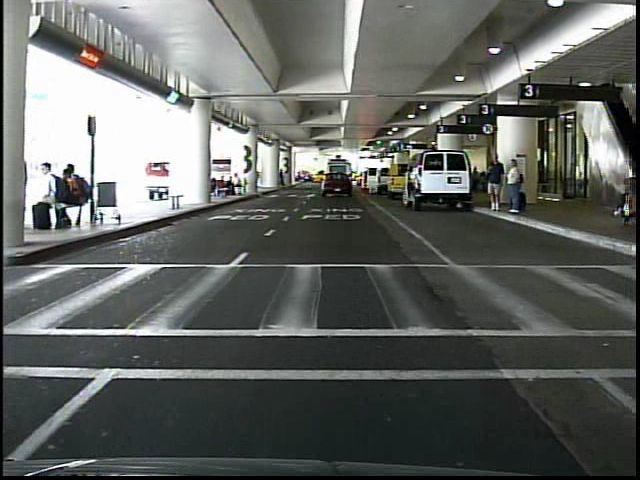person: (484, 150, 505, 217), (505, 155, 526, 220), (324, 170, 335, 194)
